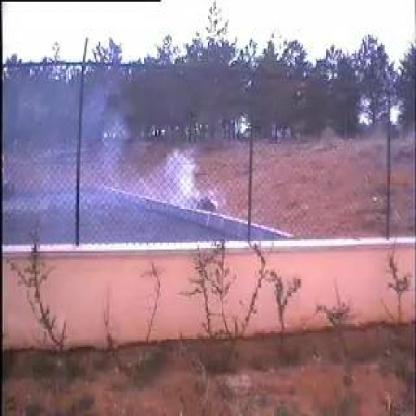-: (85, 58, 213, 238)
